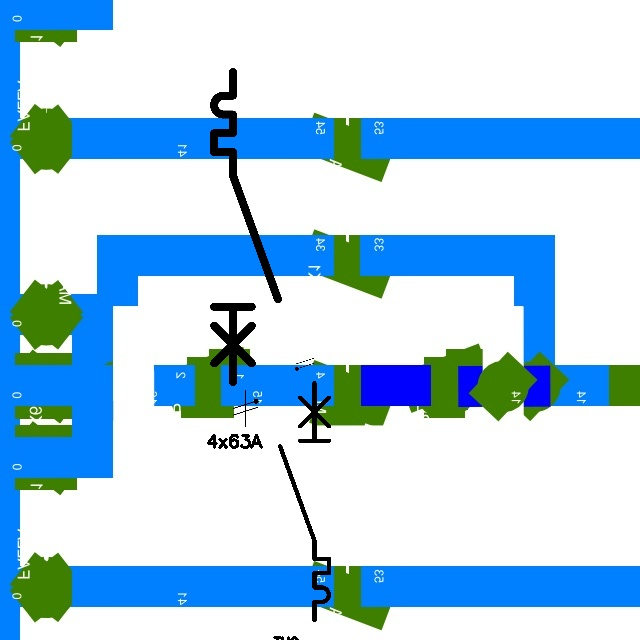interruptor_termomagnetico: (206, 64, 286, 390), (274, 377, 335, 626)
